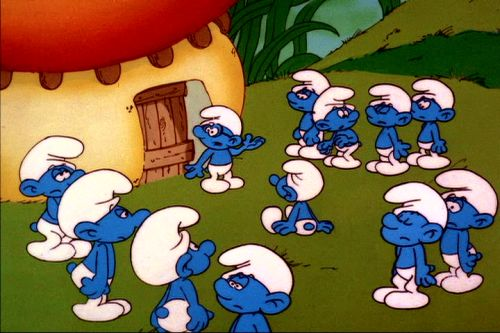smurf: (58, 166, 152, 322), (129, 204, 216, 333), (370, 180, 448, 310), (15, 134, 91, 262), (431, 170, 498, 294), (211, 242, 297, 333), (183, 104, 266, 196), (259, 157, 334, 238), (406, 76, 458, 170), (362, 83, 412, 177), (309, 85, 362, 172), (284, 69, 329, 161)
